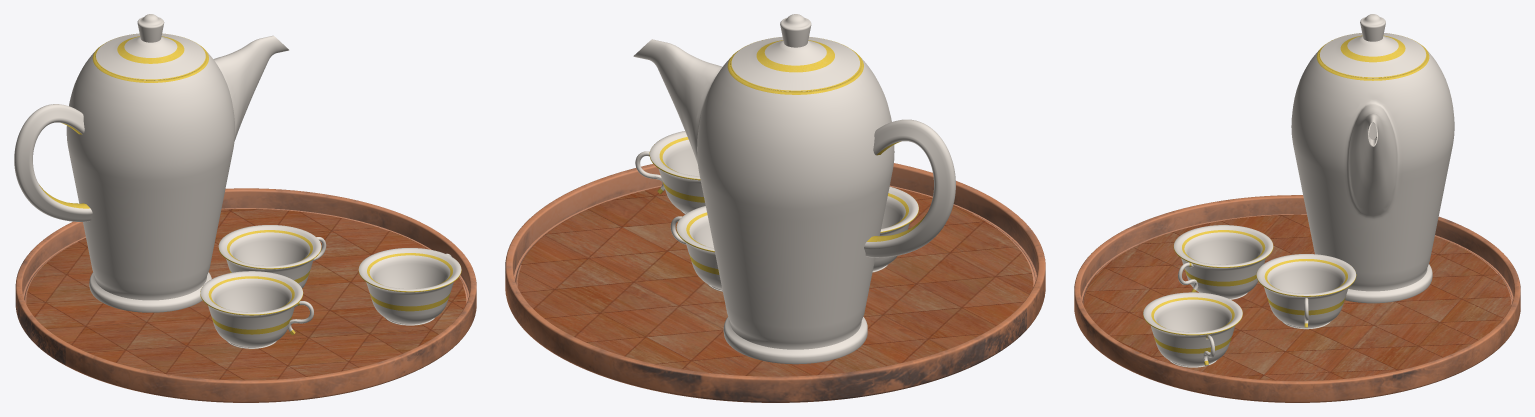
Rendered from tea_service.glb.
The picture shows the model from 3 angles, left to right: view 1: azimuth 30°, elevation 25°; view 2: azimuth 150°, elevation 25°; view 3: azimuth 270°, elevation 25°; orthographic projection. The views are drawn at different scales.
Visible parts, largest first — view 1: The_service; view 2: The_service; view 3: The_service.
Boxes of the visible parts, left/top/right/bottom form: The_service: left=14, top=14, right=476, bottom=402; The_service: left=505, top=14, right=1045, bottom=402; The_service: left=1074, top=14, right=1520, bottom=402.
Bounding box in the file's own units: 0.4893 × 0.3236 × 0.4893.
6 materials, 6 textured.
